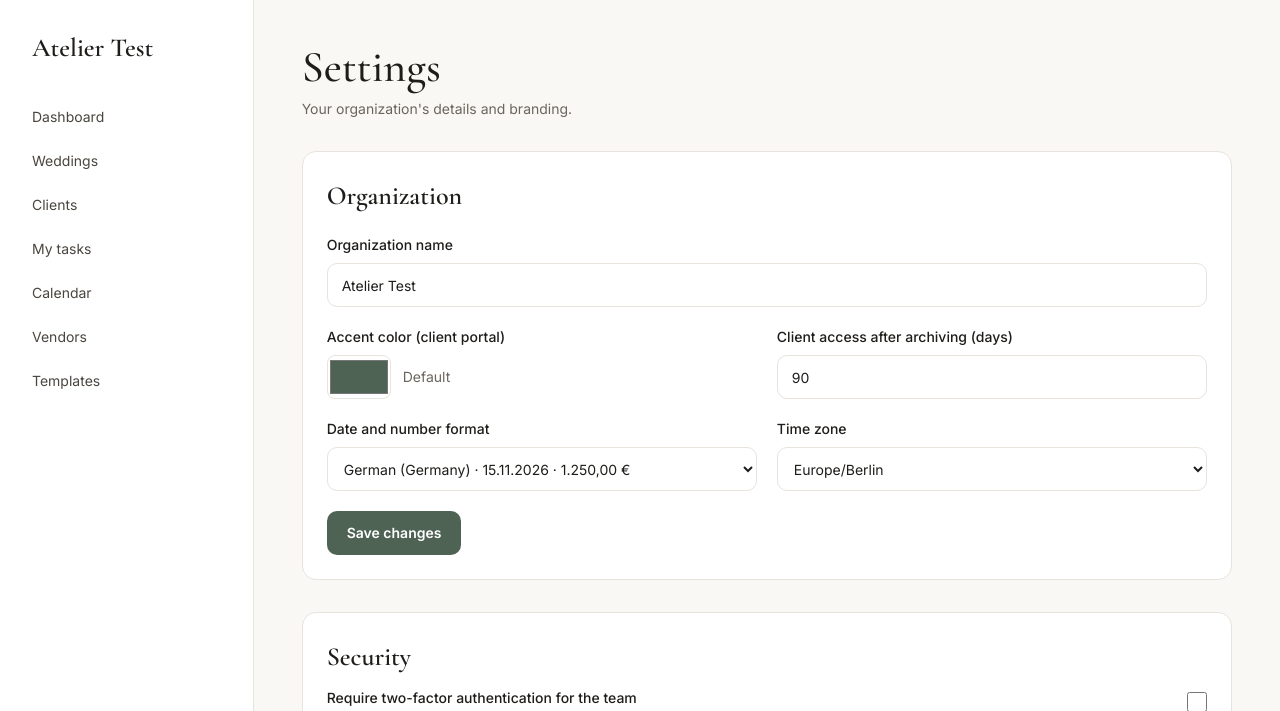
Test case: org admins rename the organization and read the audit log
Replace the text in the field labelled "Organization name" with "Atelier Lumière": [767, 285] box [327,263,1207,307]
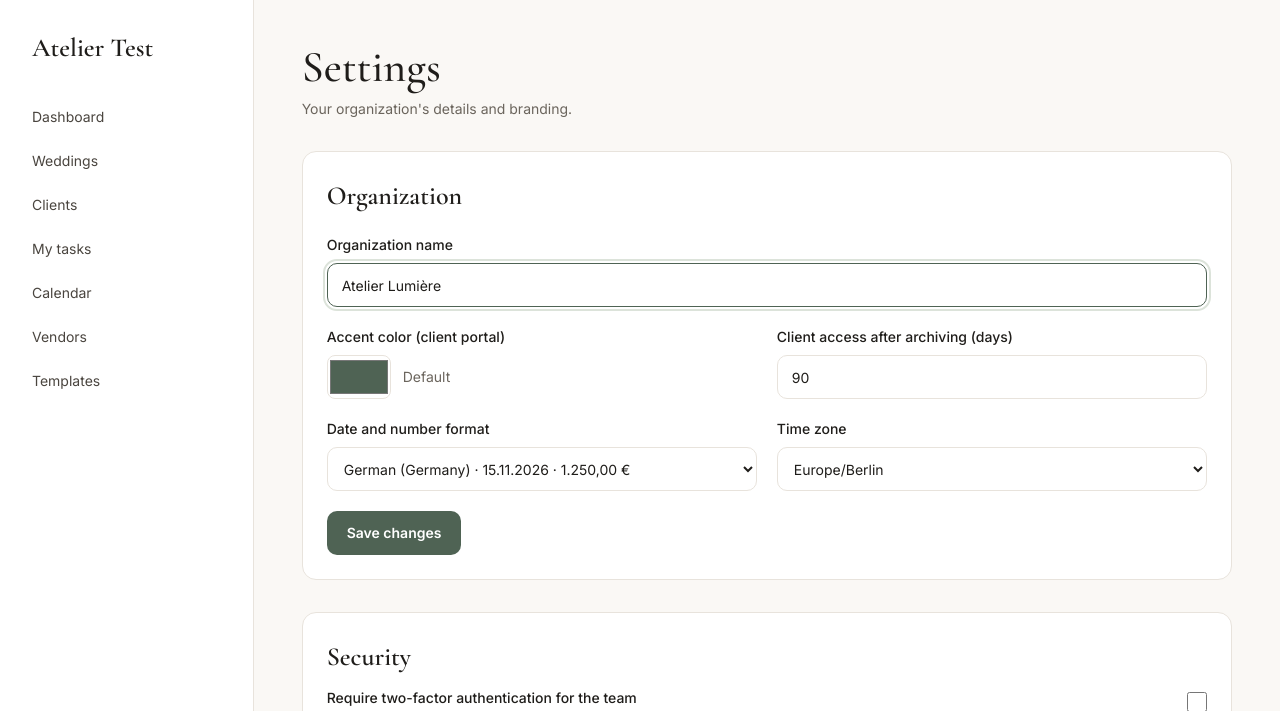
Click the button "Save changes": [394, 533] box [327,511,461,555]
(page scrolled)
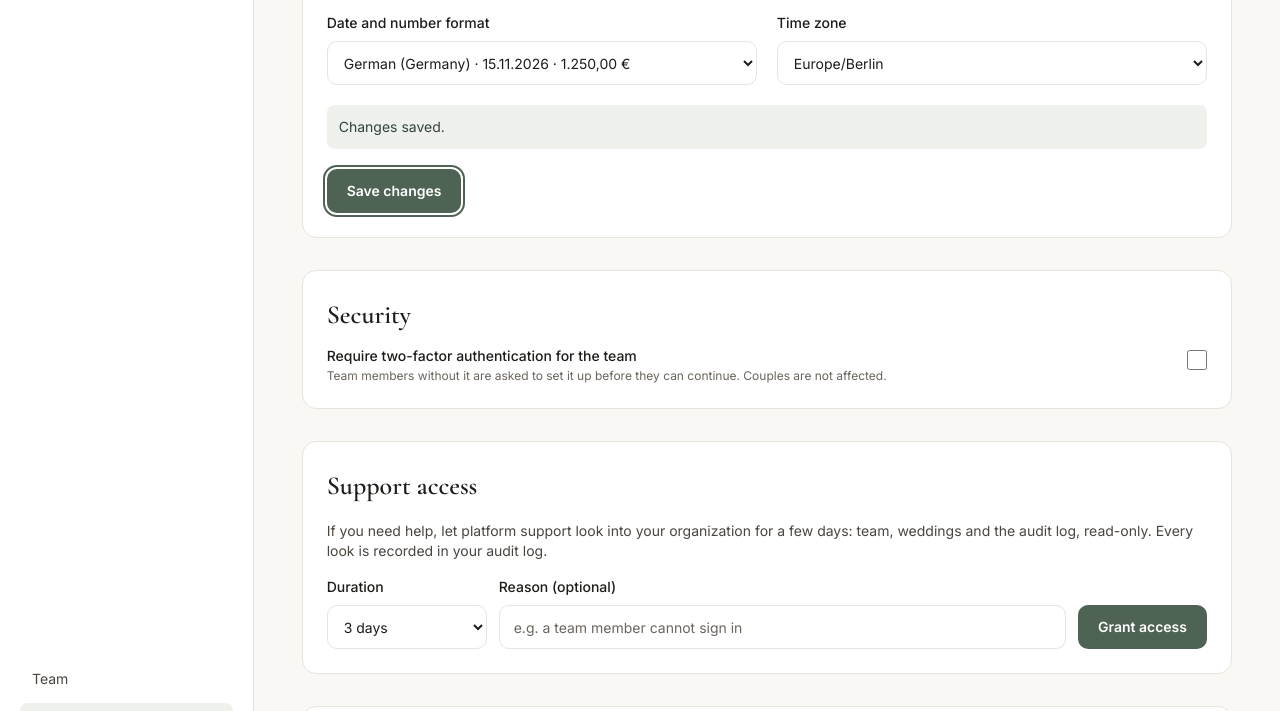
Check: the switch labelled "Require two-factor" is not checked, box [1187,350,1207,370]
Check: the text "Changes saved." is shown, box [327,105,1207,149]
